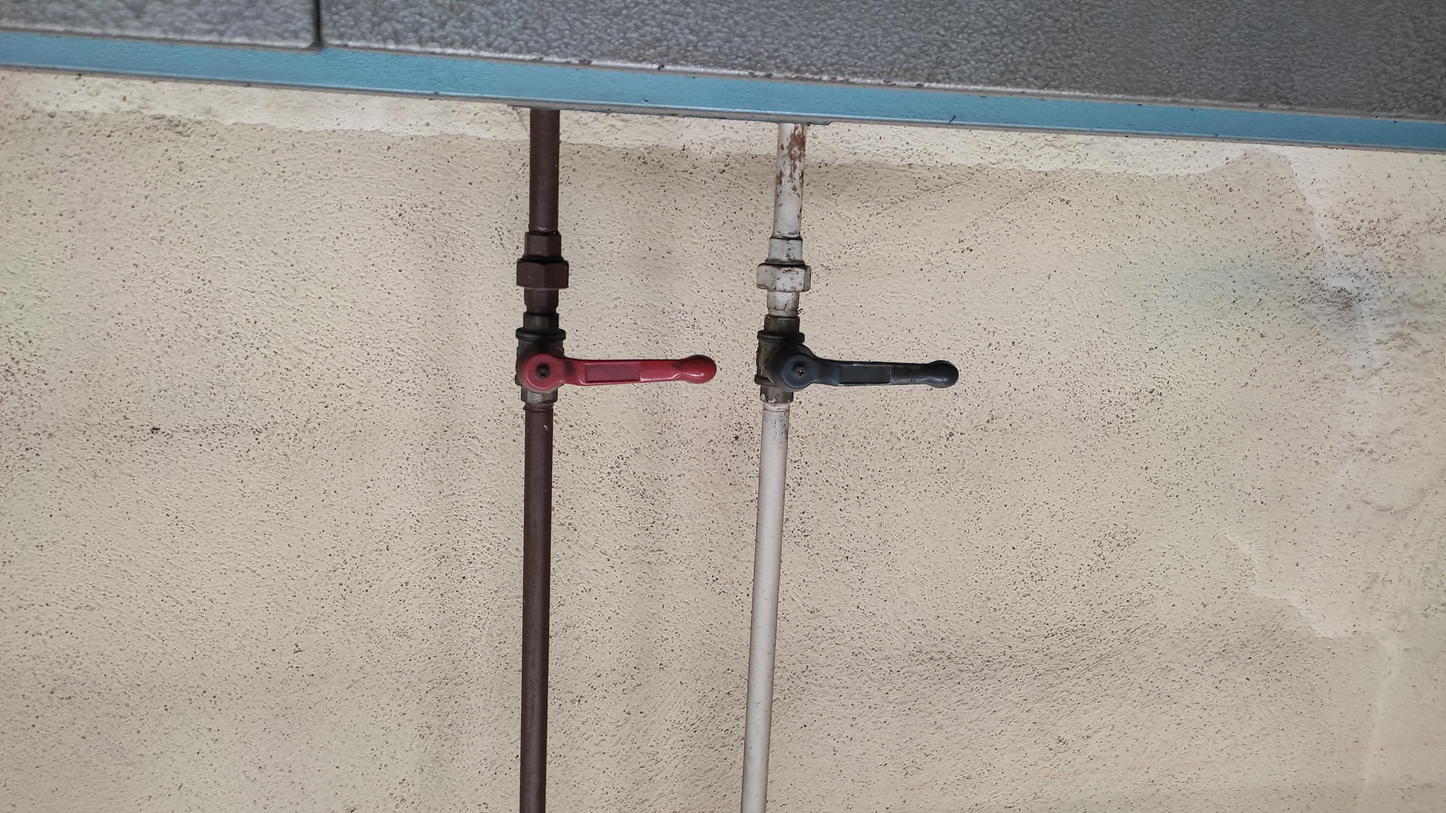closed valve: (751, 312, 961, 410), (512, 313, 718, 411)
